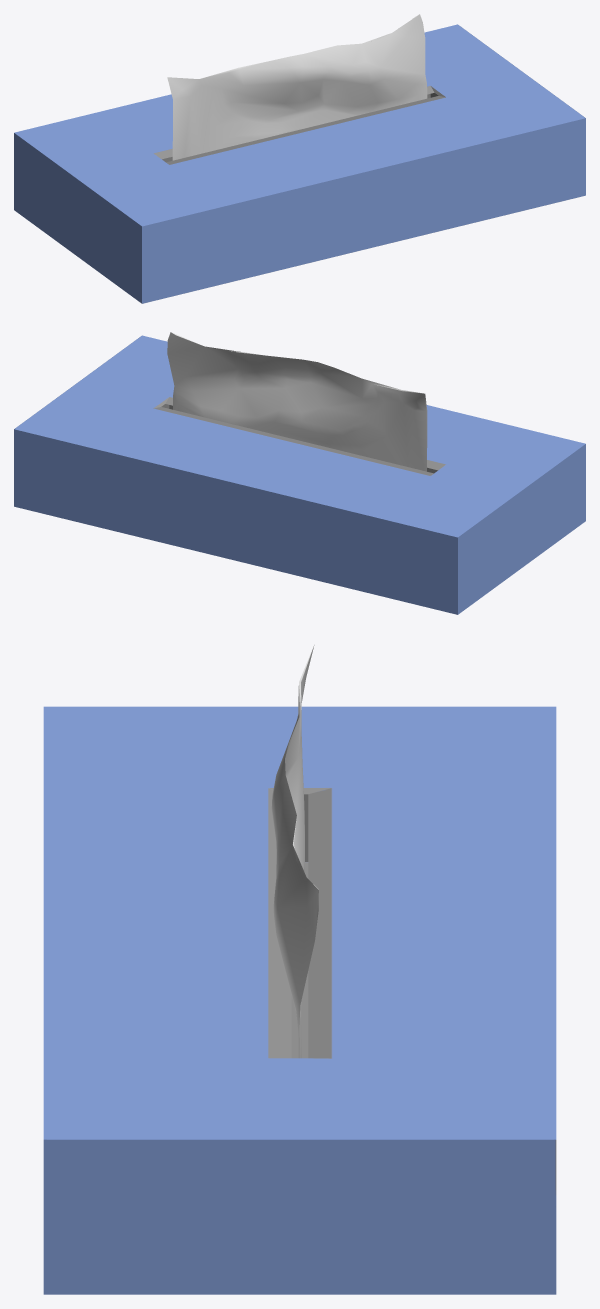
Rendered from Wipes.fbx.
3 renders of one model, top to bottom at view 1: azimuth 30°, elevation 25°; view 2: azimuth 150°, elevation 25°; view 3: azimuth 270°, elevation 25°, orthographic. The views are drawn at different scales.
Visible parts, largest first — view 1: Wipes; view 2: Wipes; view 3: Wipes.
Boxes of the visible parts, bbox=[...] form: Wipes: bbox=[14, 14, 585, 303]; Wipes: bbox=[14, 332, 585, 614]; Wipes: bbox=[43, 645, 556, 1294].
Size of the model in its own units: 30.01 by 10.01 by 15.01.
